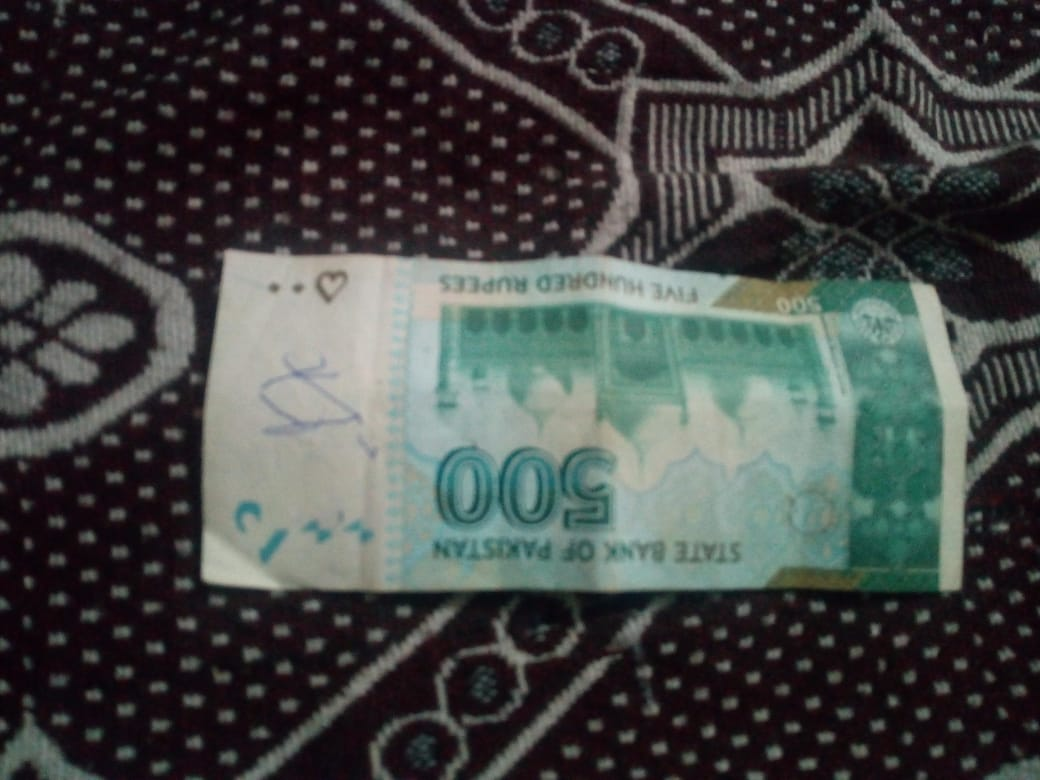500 rupee: (180, 241, 981, 609)
